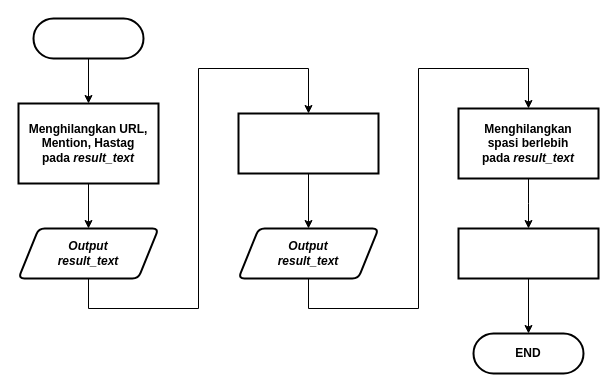
Some shapes in this 616 by 391 pixel diagram are drawn without their labels. Each missing label, with the box of its shape:
Menghilangkan selain huruf pada result_text: (237, 112, 379, 174)
Simpan ke result_text: (457, 227, 599, 279)
START: (32, 17, 144, 59)
